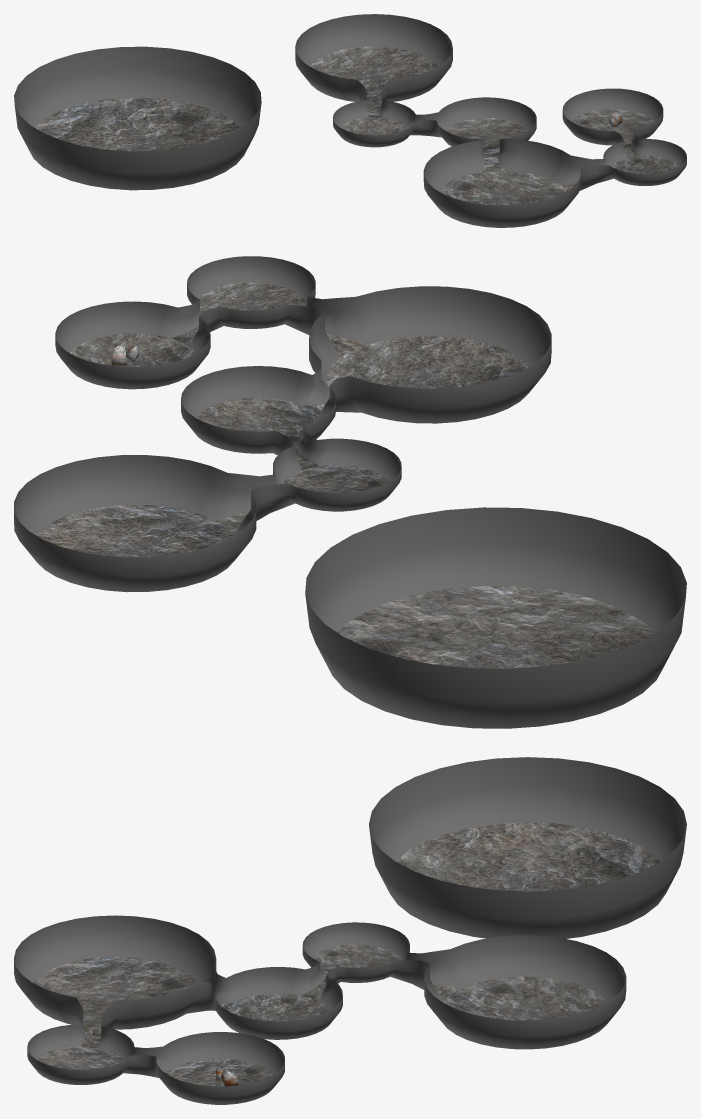
File: map.fbx
3 views of the same model, one above another, from view 1: azimuth 30°, elevation 25°; view 2: azimuth 150°, elevation 25°; view 3: azimuth 270°, elevation 25° (orthographic). The views are drawn at different scales.
Visible parts, largest first — view 1: Cylinder; view 2: Cylinder; view 3: Cylinder.
Part boxes in pixels (bbox=[...]): Cylinder: bbox=[14, 14, 686, 227]; Cylinder: bbox=[14, 256, 686, 728]; Cylinder: bbox=[14, 757, 686, 1104].
Bounding box in the file's own units: 16391 × 1390 × 14719.
